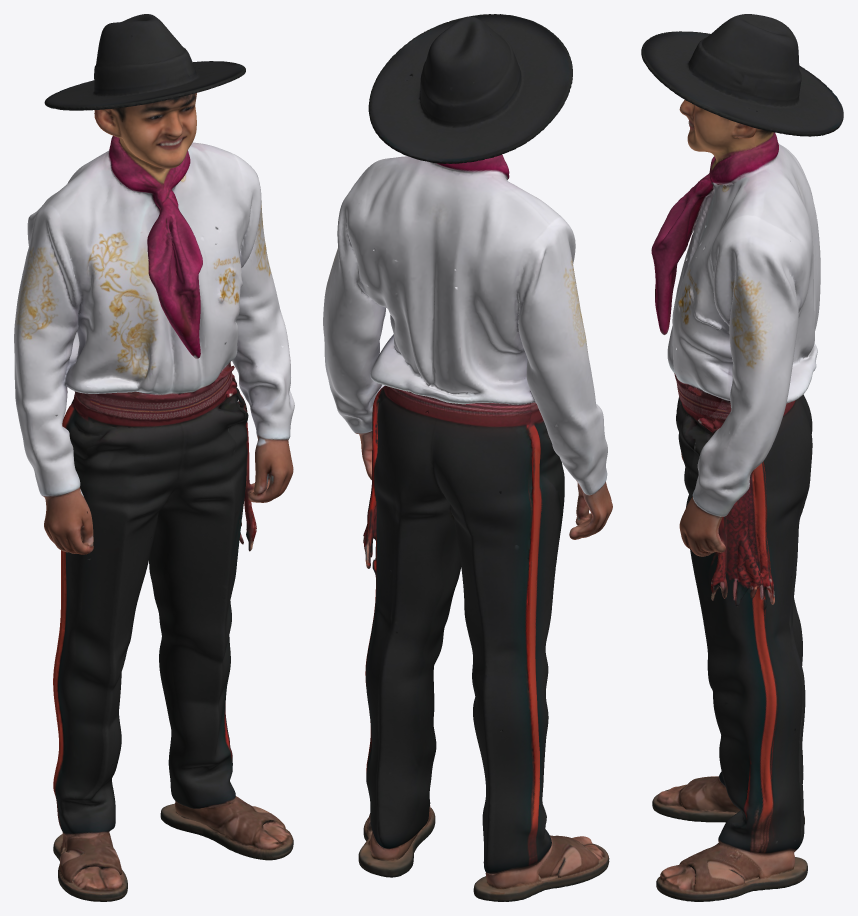
The model's file is chapaco.glb.
The picture shows the model from 3 angles, left to right: view 1: azimuth 30°, elevation 25°; view 2: azimuth 150°, elevation 25°; view 3: azimuth 270°, elevation 25°; orthographic projection. The views are drawn at different scales.
Parts seen in each view (by area): view 1: tripo_node_4622f194-5c85-4a02-ab80-ff599ec95427; view 2: tripo_node_4622f194-5c85-4a02-ab80-ff599ec95427; view 3: tripo_node_4622f194-5c85-4a02-ab80-ff599ec95427.
Part boxes in pixels (box(x1,y1,x2,y2)): tripo_node_4622f194-5c85-4a02-ab80-ff599ec95427: box(14, 14, 294, 901); tripo_node_4622f194-5c85-4a02-ab80-ff599ec95427: box(323, 14, 612, 901); tripo_node_4622f194-5c85-4a02-ab80-ff599ec95427: box(641, 14, 843, 901).
Size of the model in its own units: 0.3321 by 1 by 0.2215.
1 material, 1 textured.
